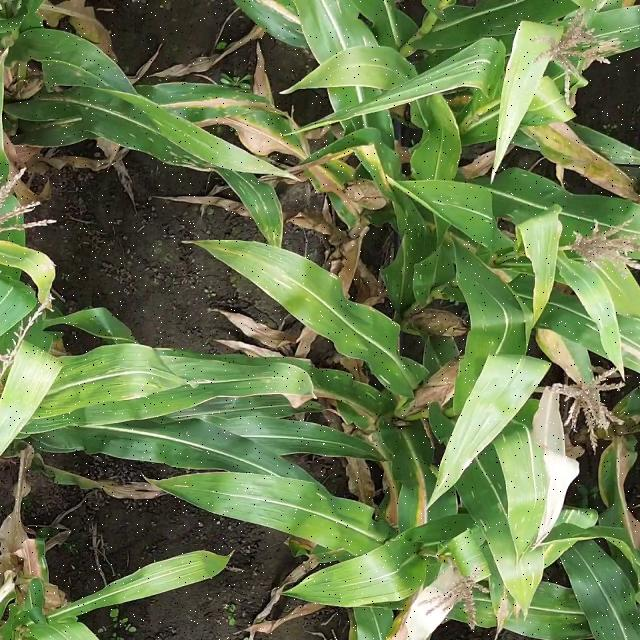gray-leaf-spot: (106, 130, 284, 256), (460, 429, 570, 600), (282, 272, 414, 400), (436, 22, 623, 89), (588, 122, 640, 165)
northern-leaf-blight: (516, 101, 640, 238), (325, 137, 405, 197)
southern-leaf-blight: (158, 64, 306, 140), (371, 188, 441, 301)
